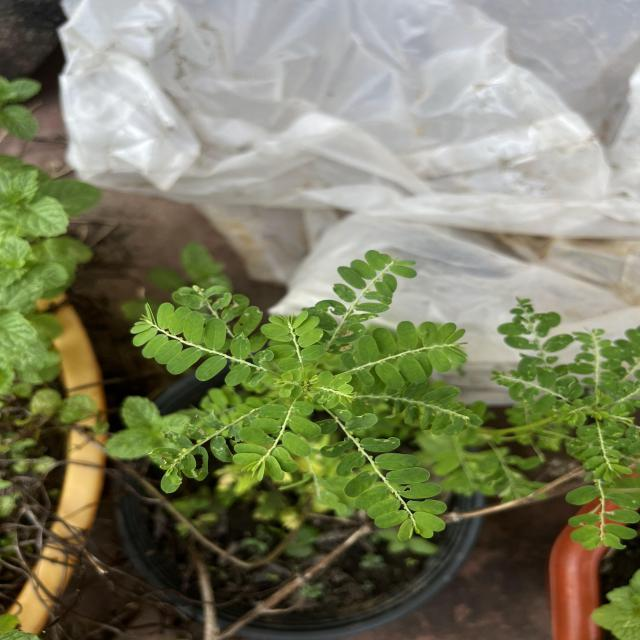Phyllanthus niruri: (309, 404, 451, 542), (304, 246, 421, 344), (128, 300, 255, 388), (336, 318, 475, 391), (228, 402, 324, 484), (257, 309, 327, 376)
